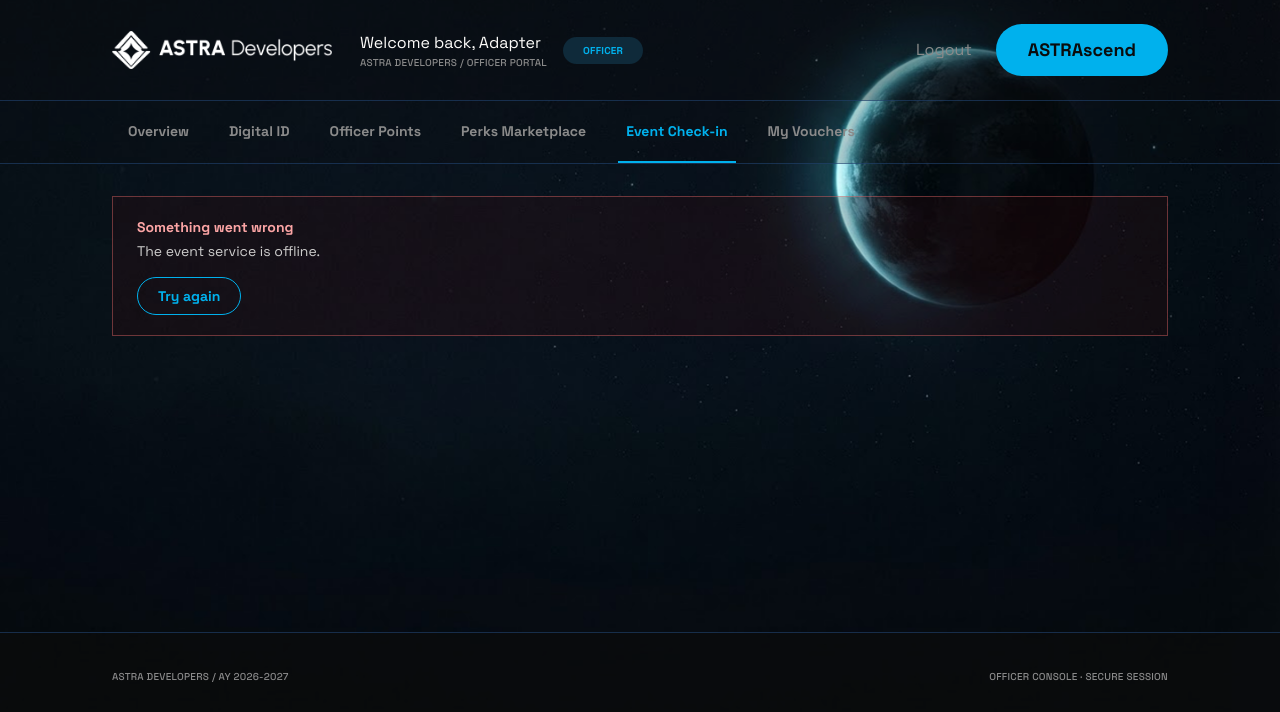
Test: replacing the data adapter › shows an error and retries the operation
Expected: the message shows "The event service is offline.", [137,242,320,260]
Click the button "Try again": coordinates (189, 296) [137,277,241,315]
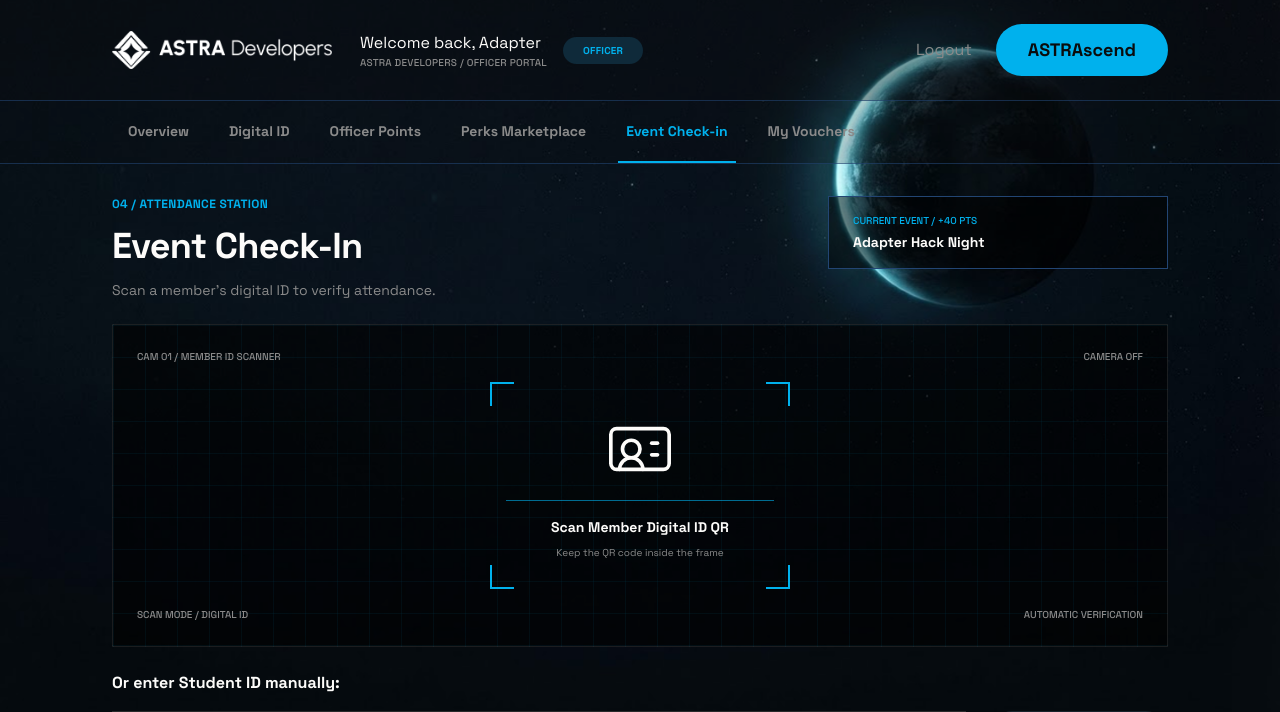
Result: the text "Adapter Hack Night" is shown at [853,233,985,251]
